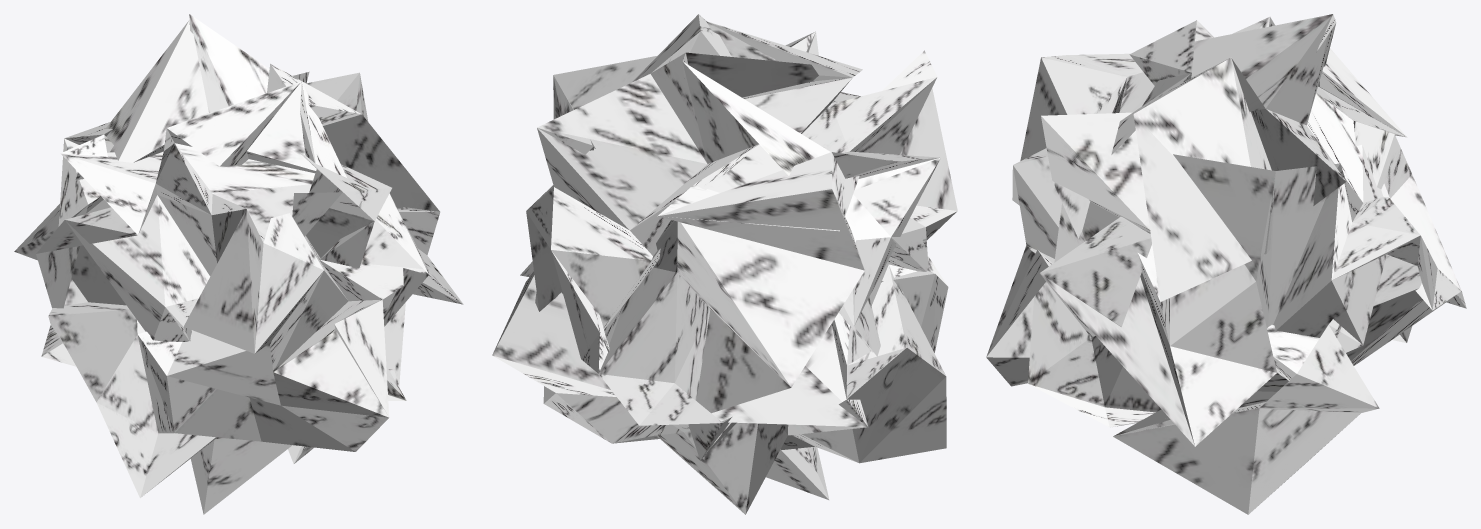
The model's file is Paper.fbx.
3 views of the same model, side by side, from view 1: azimuth 30°, elevation 25°; view 2: azimuth 150°, elevation 25°; view 3: azimuth 270°, elevation 25° (orthographic). The views are drawn at different scales.
Parts seen in each view (by area): view 1: Icosphere; view 2: Icosphere; view 3: Icosphere.
Boxes of the visible parts, x1,y1,x2,y2 form: Icosphere: (14, 14, 463, 514); Icosphere: (492, 14, 957, 514); Icosphere: (986, 14, 1466, 514).
Bounding box in the file's own units: 234 × 257 × 237.
